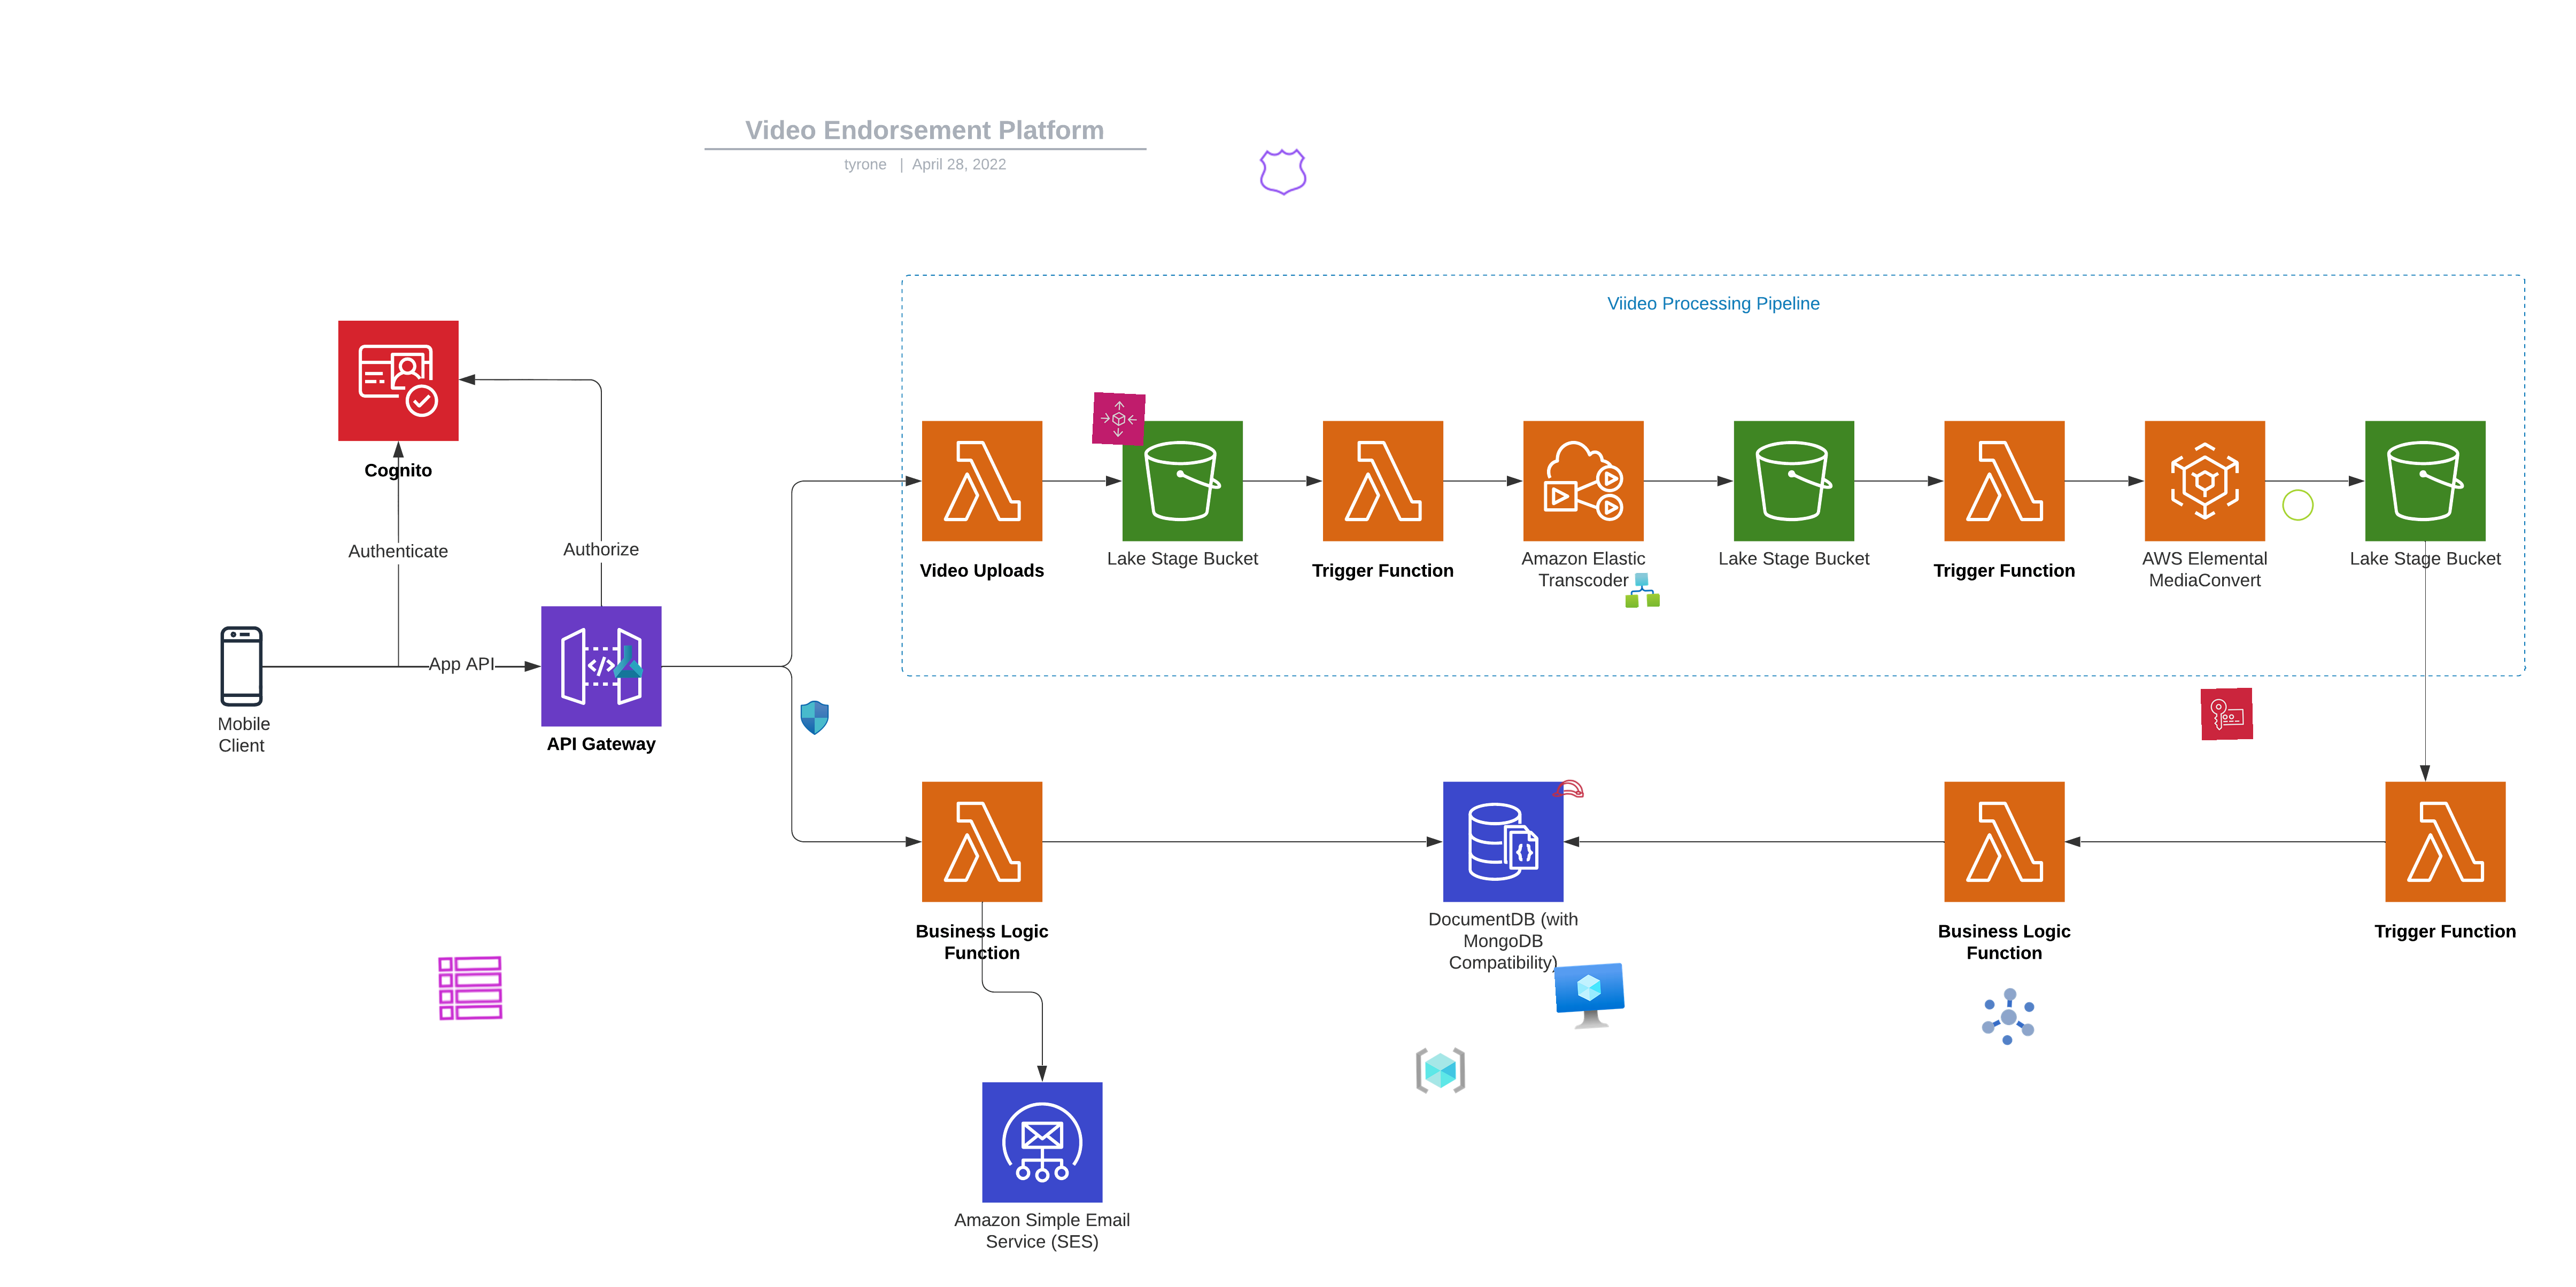aws_auto_scaling: (1091, 392, 1147, 447)
aws_dynamodb_table: (435, 954, 506, 1023)
aws_identity_access_management_role: (1549, 770, 1587, 808)
aws_key_management_service: (2200, 688, 2254, 740)
aws_route_53_hosted_zone: (1257, 144, 1311, 199)
aws_simple_storage_service_object: (2280, 488, 2316, 524)
azure_logic_apps: (1625, 571, 1661, 609)
azure_machine_learning: (611, 643, 646, 680)
azure_network_security_groups: (797, 701, 833, 735)
azure_resource_groups: (1415, 1044, 1467, 1097)
azure_virtual_machine: (1554, 962, 1626, 1036)
gcp_pubsub: (1973, 980, 2045, 1052)
